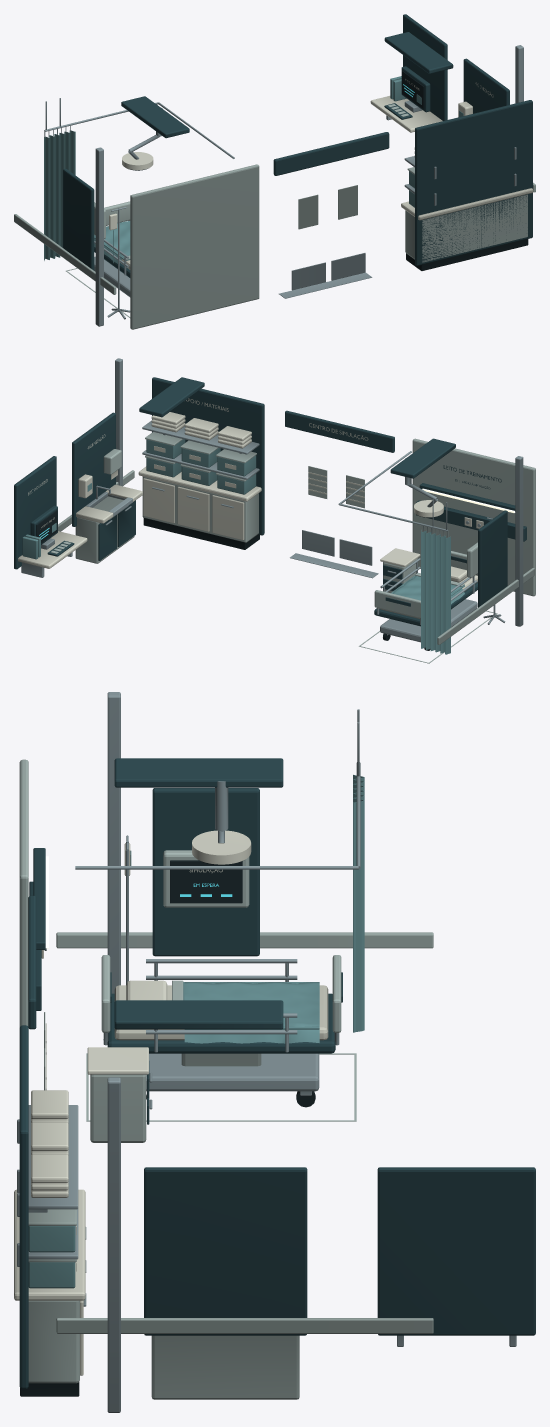
File: retaguarda-arena-acabada.glb
3 renders of one model, top to bottom at view 1: azimuth 30°, elevation 25°; view 2: azimuth 150°, elevation 25°; view 3: azimuth 270°, elevation 25°, orthographic. The views are drawn at different scales.
Parts seen in each view (by area): view 1: Retaguarda_Esmalte_Acabado.002, Retaguarda_Petroleo_Acabado.002, Retaguarda_Metal_Acabado.002, Retaguarda_Tecido_Acabado.002, Retaguarda_Marfim_Acabado.002, Retaguarda_Borracha_Acabado.002; view 2: Retaguarda_Petroleo_Acabado.002, Retaguarda_Esmalte_Acabado.002, Retaguarda_Marfim_Acabado.002, Retaguarda_Metal_Acabado.002, Retaguarda_Tecido_Acabado.002, Retaguarda_Borracha_Acabado.002; view 3: Retaguarda_Petroleo_Acabado.002, Retaguarda_Esmalte_Acabado.002, Retaguarda_Metal_Acabado.002, Retaguarda_Marfim_Acabado.002, Retaguarda_Tecido_Acabado.002, Retaguarda_Borracha_Acabado.002.
Part boxes in pixels (x1,y1,x2,y2): Retaguarda_Esmalte_Acabado.002: (14, 104, 535, 329); Retaguarda_Petroleo_Acabado.002: (63, 14, 532, 277); Retaguarda_Metal_Acabado.002: (44, 45, 523, 326); Retaguarda_Tecido_Acabado.002: (44, 76, 463, 263); Retaguarda_Marfim_Acabado.002: (106, 79, 533, 269); Retaguarda_Borracha_Acabado.002: (127, 71, 528, 270); Retaguarda_Petroleo_Acabado.002: (14, 377, 526, 626); Retaguarda_Esmalte_Acabado.002: (50, 432, 535, 663); Retaguarda_Marfim_Acabado.002: (18, 398, 483, 618); Retaguarda_Metal_Acabado.002: (21, 358, 523, 642); Retaguarda_Tecido_Acabado.002: (22, 439, 464, 654); Retaguarda_Borracha_Acabado.002: (36, 510, 437, 650); Retaguarda_Petroleo_Acabado.002: (19, 758, 535, 1388); Retaguarda_Esmalte_Acabado.002: (19, 759, 433, 1399); Retaguarda_Metal_Acabado.002: (17, 692, 516, 1412); Retaguarda_Marfim_Acabado.002: (14, 830, 328, 1375); Retaguarda_Tecido_Acabado.002: (28, 774, 364, 1288); Retaguarda_Borracha_Acabado.002: (20, 860, 315, 1396).
Size of the model in its own units: 9.04 by 3.59 by 5.1.
